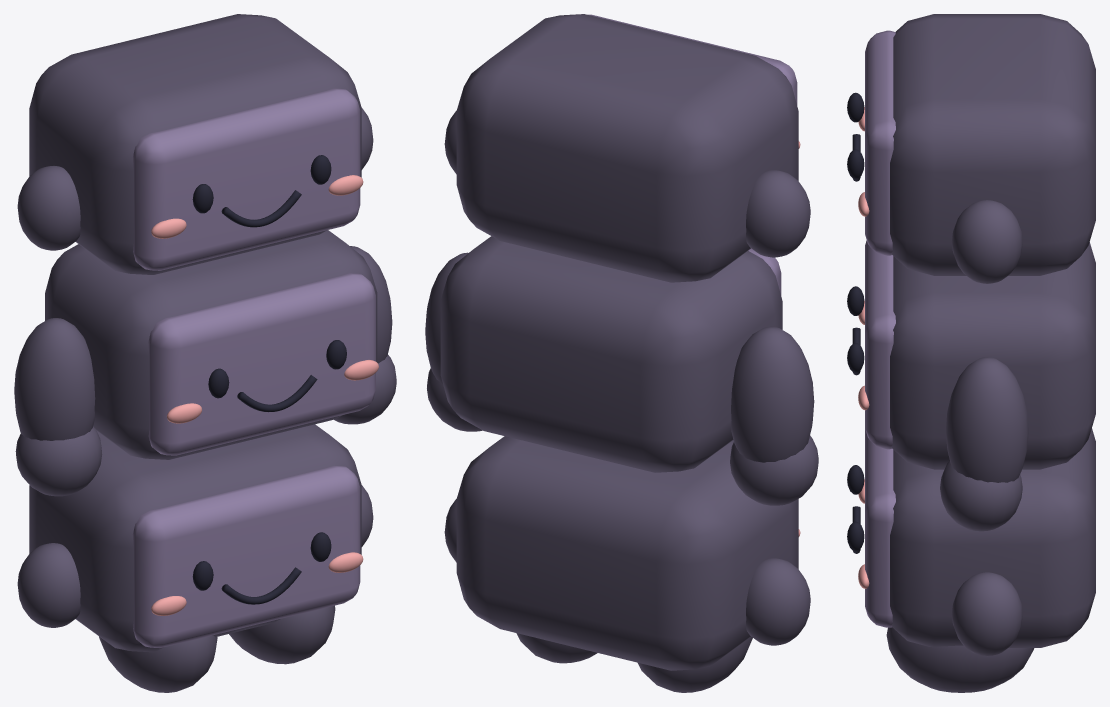
The model's file is stacky.glb.
The picture shows the model from 3 angles, left to right: view 1: azimuth 30°, elevation 25°; view 2: azimuth 150°, elevation 25°; view 3: azimuth 270°, elevation 25°; orthographic projection. The views are drawn at different scales.
Parts seen in each view (by area): view 1: stacky_Head_Mesh, stacky_Block0_Mesh, stacky_Block1_Mesh, stacky_LeftArm_Mesh, Foot.010, Foot.011, stacky_RightArm_Mesh, stacky_Face_Mesh, stacky_Block1_Face_Mesh, stacky_Block0_Face_Mesh, stacky_Face_Mouth, stacky_Block0_Face_Mouth (+1 smaller); view 2: stacky_Head_Mesh, stacky_Block0_Mesh, stacky_Block1_Mesh, stacky_LeftArm_Mesh, stacky_RightArm_Mesh, Foot.010, Foot.011; view 3: stacky_Head_Mesh, stacky_Block0_Mesh, stacky_Block1_Mesh, stacky_RightArm_Mesh, Foot.011, stacky_Block1_Face_RightEyeMesh, stacky_Block0_Face_RightEyeMesh, stacky_Face_LeftEyeMesh, stacky_Face_RightEyeMesh, stacky_Block0_Face_LeftEyeMesh, stacky_Block1_Face_LeftEyeMesh.
Part boxes in pixels (box(x1,y1,x2,y2)): stacky_Head_Mesh: box(17, 14, 373, 274); stacky_Block0_Mesh: box(17, 424, 373, 652); stacky_Block1_Mesh: box(45, 230, 377, 459); stacky_LeftArm_Mesh: box(14, 318, 102, 496); Foot.010: box(99, 635, 217, 692); Foot.011: box(229, 605, 335, 664); stacky_RightArm_Mesh: box(334, 246, 396, 424); stacky_Face_Mesh: box(151, 175, 363, 238); stacky_Block1_Face_Mesh: box(167, 360, 378, 423); stacky_Block0_Face_Mesh: box(151, 552, 363, 615); stacky_Face_Mouth: box(221, 190, 301, 227); stacky_Block0_Face_Mouth: box(221, 567, 301, 604); stacky_Head_Mesh: box(444, 14, 810, 282); stacky_Block0_Mesh: box(444, 436, 810, 670); stacky_Block1_Mesh: box(440, 236, 782, 472); stacky_LeftArm_Mesh: box(730, 326, 818, 505); stacky_RightArm_Mesh: box(425, 252, 482, 431); Foot.010: box(638, 636, 752, 692); Foot.011: box(516, 633, 597, 663); stacky_Head_Mesh: box(865, 14, 1095, 283); stacky_Block0_Mesh: box(865, 428, 1095, 656); stacky_Block1_Mesh: box(865, 240, 1095, 469); stacky_RightArm_Mesh: box(940, 357, 1028, 531); Foot.011: box(886, 627, 1034, 692); stacky_Block1_Face_RightEyeMesh: box(847, 343, 864, 372); stacky_Block0_Face_RightEyeMesh: box(847, 521, 864, 551); stacky_Face_LeftEyeMesh: box(847, 92, 864, 122); stacky_Face_RightEyeMesh: box(847, 149, 864, 179); stacky_Block0_Face_LeftEyeMesh: box(847, 465, 864, 494); stacky_Block1_Face_LeftEyeMesh: box(847, 286, 864, 315).
Size of the model in its own units: 1.07 by 1.67 by 0.63.
